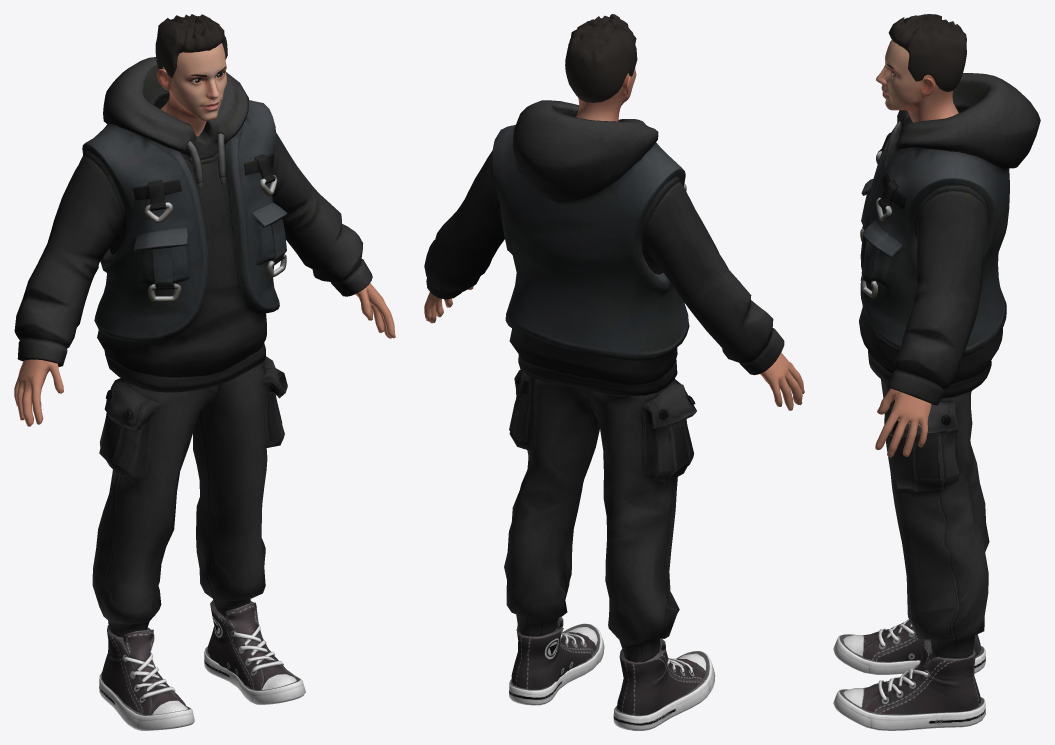
File: personalAvatarModel.gltf
3 views of the same model, side by side, from view 1: azimuth 30°, elevation 25°; view 2: azimuth 150°, elevation 25°; view 3: azimuth 270°, elevation 25° (orthographic).
Visible parts, largest first — view 1: Wolf3D_Outfit_Top, Wolf3D_Outfit_Bottom, Wolf3D_Outfit_Footwear, Wolf3D_Head, Wolf3D_Body, Wolf3D_Hair; view 2: Wolf3D_Outfit_Top, Wolf3D_Outfit_Bottom, Wolf3D_Outfit_Footwear, Wolf3D_Hair, Wolf3D_Body, Wolf3D_Head; view 3: Wolf3D_Outfit_Top, Wolf3D_Outfit_Bottom, Wolf3D_Outfit_Footwear, Wolf3D_Hair, Wolf3D_Head, Wolf3D_Body.
Part boxes in pixels (x1=…): Wolf3D_Outfit_Top: x1=14, y1=57, x2=372, y2=392; Wolf3D_Outfit_Bottom: x1=92, y1=356, x2=287, y2=637; Wolf3D_Outfit_Footwear: x1=99, y1=600, x2=305, y2=730; Wolf3D_Head: x1=156, y1=43, x2=226, y2=136; Wolf3D_Body: x1=14, y1=283, x2=395, y2=426; Wolf3D_Hair: x1=155, y1=14, x2=227, y2=78; Wolf3D_Outfit_Top: x1=424, y1=100, x2=784, y2=395; Wolf3D_Outfit_Bottom: x1=504, y1=369, x2=696, y2=662; Wolf3D_Outfit_Footwear: x1=509, y1=617, x2=715, y2=730; Wolf3D_Hair: x1=565, y1=14, x2=637, y2=102; Wolf3D_Body: x1=424, y1=286, x2=804, y2=410; Wolf3D_Head: x1=576, y1=67, x2=636, y2=121; Wolf3D_Outfit_Top: x1=859, y1=73, x2=1040, y2=405; Wolf3D_Outfit_Bottom: x1=881, y1=379, x2=989, y2=658; Wolf3D_Outfit_Footwear: x1=833, y1=619, x2=985, y2=730; Wolf3D_Hair: x1=888, y1=14, x2=966, y2=91; Wolf3D_Head: x1=876, y1=40, x2=958, y2=122; Wolf3D_Body: x1=875, y1=388, x2=931, y2=457.
Bounding box in the file's own units: 1.06 × 1.86 × 0.5196.
9 materials, 9 textured.
